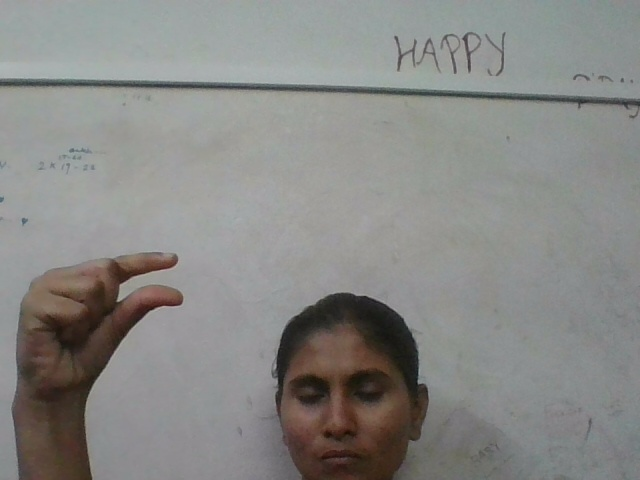No: (12, 245, 193, 394)
